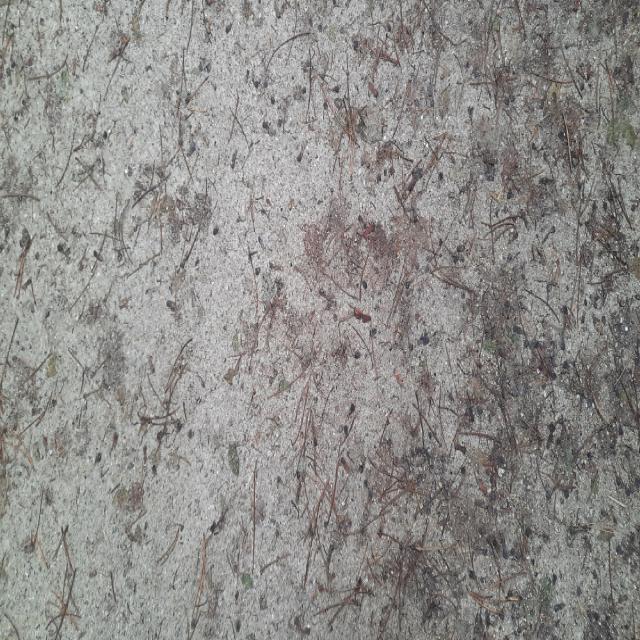white-sand: (0, 0, 639, 639)
